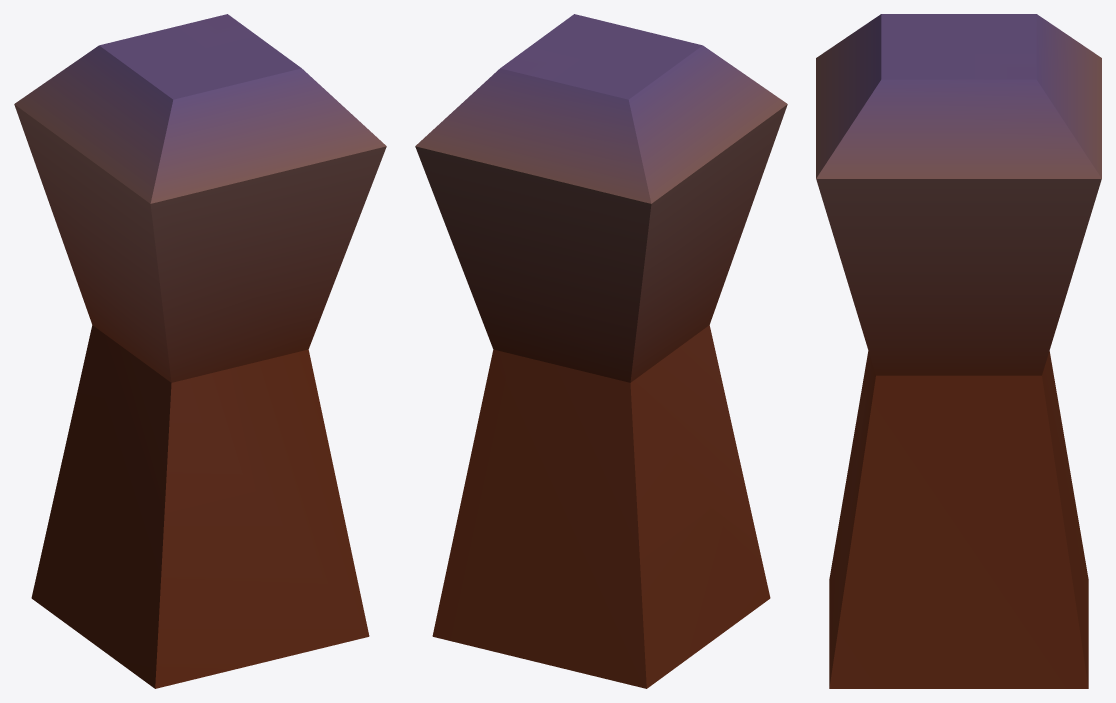
File: Tower.glb
3 views of the same model, side by side, from view 1: azimuth 30°, elevation 25°; view 2: azimuth 150°, elevation 25°; view 3: azimuth 270°, elevation 25° (orthographic). The views are drawn at different scales.
Parts seen in each view (by area): view 1: Tower; view 2: Tower; view 3: Tower.
Part boxes in pixels (x1,y1,x2,y2): Tower: (14, 14, 386, 688); Tower: (415, 14, 787, 688); Tower: (816, 14, 1101, 688).
Size of the model in its own units: 0.441 by 1 by 0.441.
